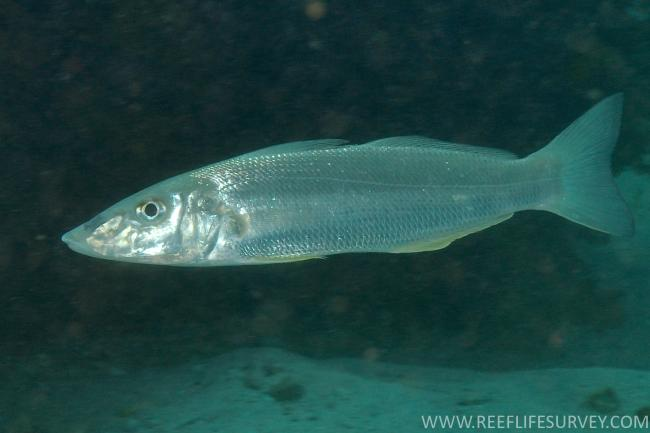fish: (60, 90, 637, 269)
